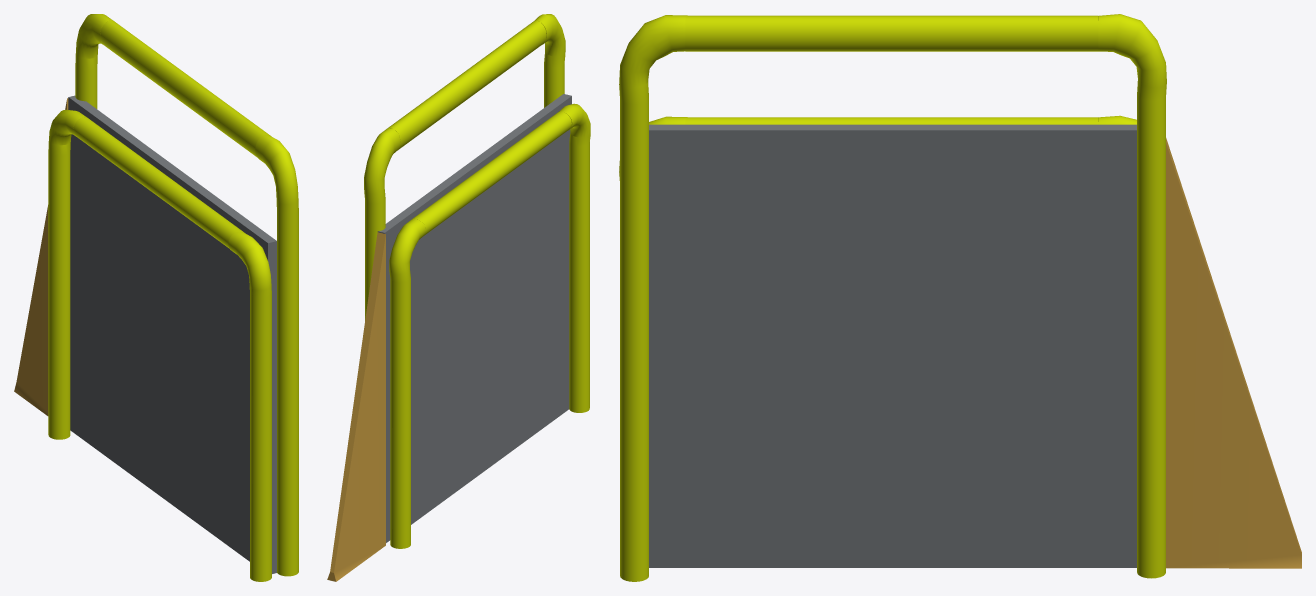
Rendered from BarrierLEFTEND.fbx.
3 views of the same model, side by side, from view 1: azimuth 30°, elevation 25°; view 2: azimuth 150°, elevation 25°; view 3: azimuth 270°, elevation 25° (orthographic). The views are drawn at different scales.
Visible parts, largest first — view 1: polySurface224; view 2: polySurface224; view 3: polySurface224.
Part boxes in pixels (<box>): polySurface224: <box>14,14,298,581</box>; polySurface224: <box>327,14,590,581</box>; polySurface224: <box>619,14,1301,581</box>.
Size of the model in its own units: 0.5133 by 4.03 by 4.47.
